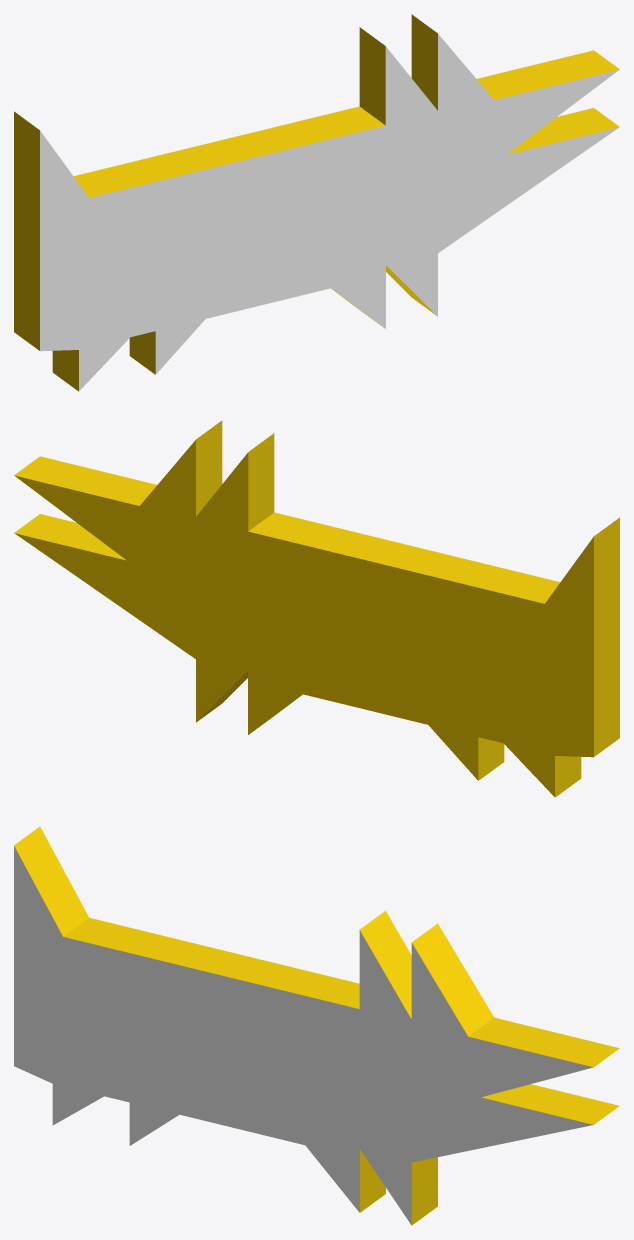
File: pickup_dog.fbx
3 views of the same model, one above another, from view 1: azimuth 30°, elevation 25°; view 2: azimuth 150°, elevation 25°; view 3: azimuth 330°, elevation 25° (orthographic).
Visible parts, largest first — view 1: Model; view 2: Model; view 3: Model.
Part boxes in pixels (box(x1,y1,x2,y2)): Model: box(14, 14, 619, 391); Model: box(14, 420, 619, 797); Model: box(14, 826, 619, 1225).
Bounding box in the file's own units: 115 × 53.88 × 9.
